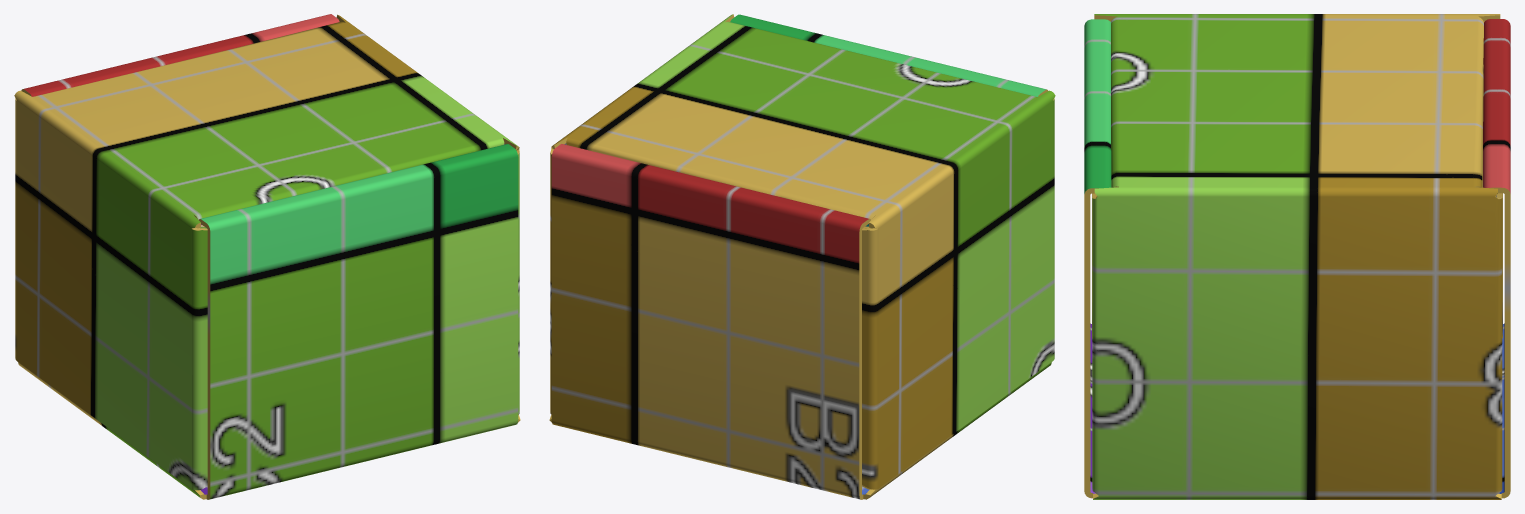
The model's file is Size01_Ring_optUV.glb.
3 renders of one model, left to right at view 1: azimuth 30°, elevation 25°; view 2: azimuth 150°, elevation 25°; view 3: azimuth 270°, elevation 25°, orthographic. The views are drawn at different scales.
Parts seen in each view (by area): view 1: CubeStable; view 2: CubeStable; view 3: CubeStable.
Part boxes in pixels (box(x1,y1,x2,y2)): CubeStable: box(14, 14, 520, 499); CubeStable: box(549, 14, 1055, 499); CubeStable: box(1084, 14, 1510, 499).
Bounding box in the file's own units: 5.67 × 4.6 × 5.71.
Materials: 2 (2 with a texture image).
